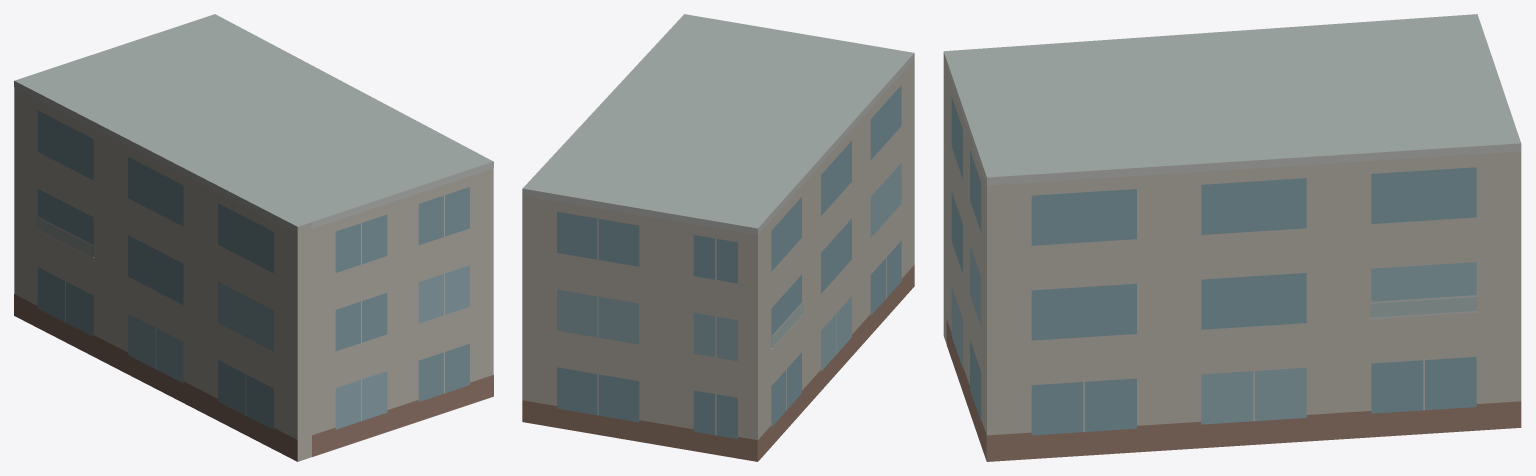
Rendered from survey-upis-32563670.glb.
3 views of the same model, side by side, from view 1: azimuth 30°, elevation 25°; view 2: azimuth 150°, elevation 25°; view 3: azimuth 270°, elevation 25° (orthographic). The views are drawn at different scales.
Visible parts, largest first — view 1: survey-upis-32563670.tmp; view 2: survey-upis-32563670.tmp; view 3: survey-upis-32563670.tmp.
Part boxes in pixels (x1,y1,x2,y2): survey-upis-32563670.tmp: (14, 14, 493, 461); survey-upis-32563670.tmp: (522, 14, 914, 461); survey-upis-32563670.tmp: (943, 14, 1521, 461).
Bounding box in the file's own units: 10.86 × 8.8 × 16.21.
